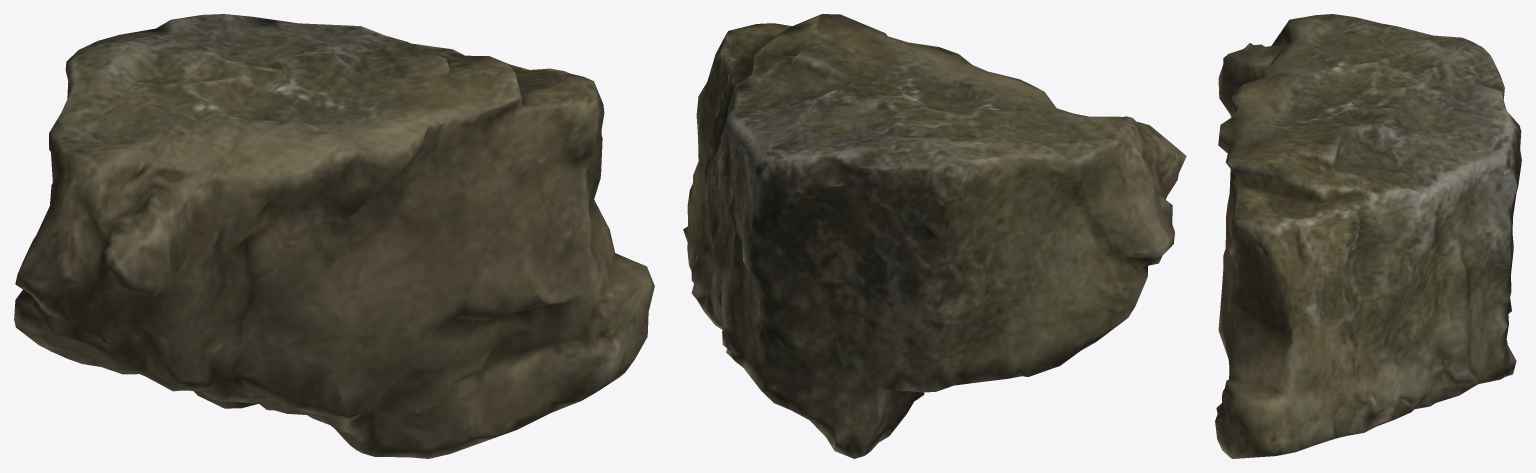
File: SM_RockMoss_B07.gltf
3 views of the same model, side by side, from view 1: azimuth 30°, elevation 25°; view 2: azimuth 150°, elevation 25°; view 3: azimuth 270°, elevation 25° (orthographic). The views are drawn at different scales.
Parts seen in each view (by area): view 1: SM_RockMoss_B07; view 2: SM_RockMoss_B07; view 3: SM_RockMoss_B07.
Boxes of the visible parts, x1=… form: SM_RockMoss_B07: x1=14, y1=14, x2=654, y2=458; SM_RockMoss_B07: x1=683, y1=14, x2=1186, y2=458; SM_RockMoss_B07: x1=1215, y1=14, x2=1521, y2=458.
Size of the model in its own units: 2.09 by 1.25 by 1.14.
Materials: 1 (1 with a texture image).
